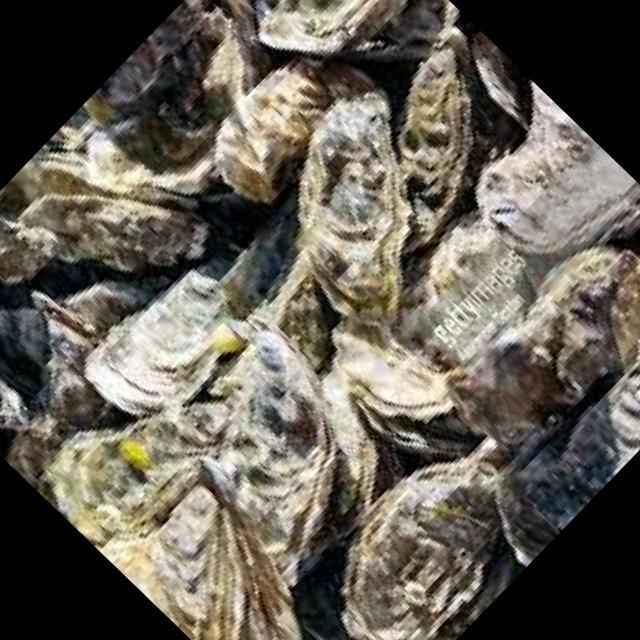Oyster-Closed: (449, 246, 639, 448), (202, 326, 339, 584), (44, 411, 219, 592), (101, 485, 301, 639), (476, 85, 639, 273), (342, 454, 501, 639), (502, 366, 640, 554), (299, 92, 410, 321), (86, 270, 244, 416), (215, 59, 375, 202), (406, 214, 526, 380), (398, 34, 474, 251), (20, 194, 208, 271), (255, 0, 444, 62), (321, 366, 380, 529), (256, 248, 332, 364), (24, 276, 102, 378), (15, 148, 131, 200)
Oyster-Open: (332, 320, 475, 459)
